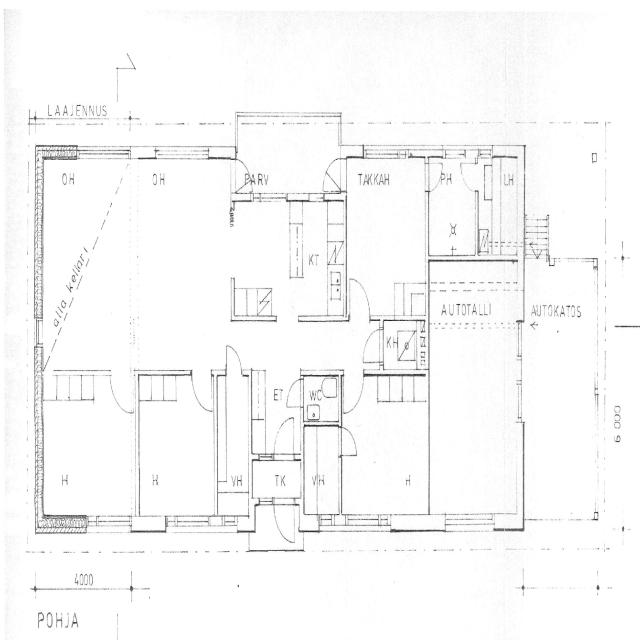door: (427, 157, 479, 258), (108, 367, 136, 417), (272, 496, 298, 547), (190, 369, 215, 417), (272, 413, 296, 462), (347, 273, 371, 321), (342, 370, 364, 416), (362, 326, 383, 370), (322, 154, 342, 193), (224, 342, 244, 380), (232, 155, 251, 193), (340, 423, 359, 459), (286, 375, 304, 410), (460, 160, 478, 192), (426, 160, 443, 193), (348, 154, 363, 180)
window: (74, 142, 128, 168), (85, 512, 132, 540), (165, 510, 210, 535), (252, 189, 288, 207), (444, 148, 464, 160), (308, 190, 325, 203)
zone: (133, 155, 233, 370), (36, 369, 135, 527), (342, 372, 430, 526), (346, 157, 428, 318), (133, 372, 216, 524), (232, 198, 298, 318), (548, 123, 602, 259), (289, 198, 344, 321), (612, 322, 640, 534), (428, 159, 477, 259), (478, 156, 524, 259), (216, 372, 250, 505), (302, 423, 342, 524), (381, 318, 428, 374), (302, 374, 340, 425), (617, 255, 640, 326), (272, 498, 298, 547), (525, 225, 549, 258)
